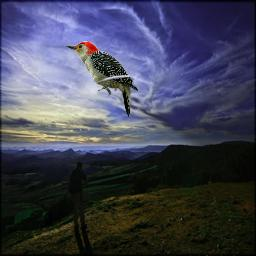Woodpecker: (66, 41, 138, 117)
